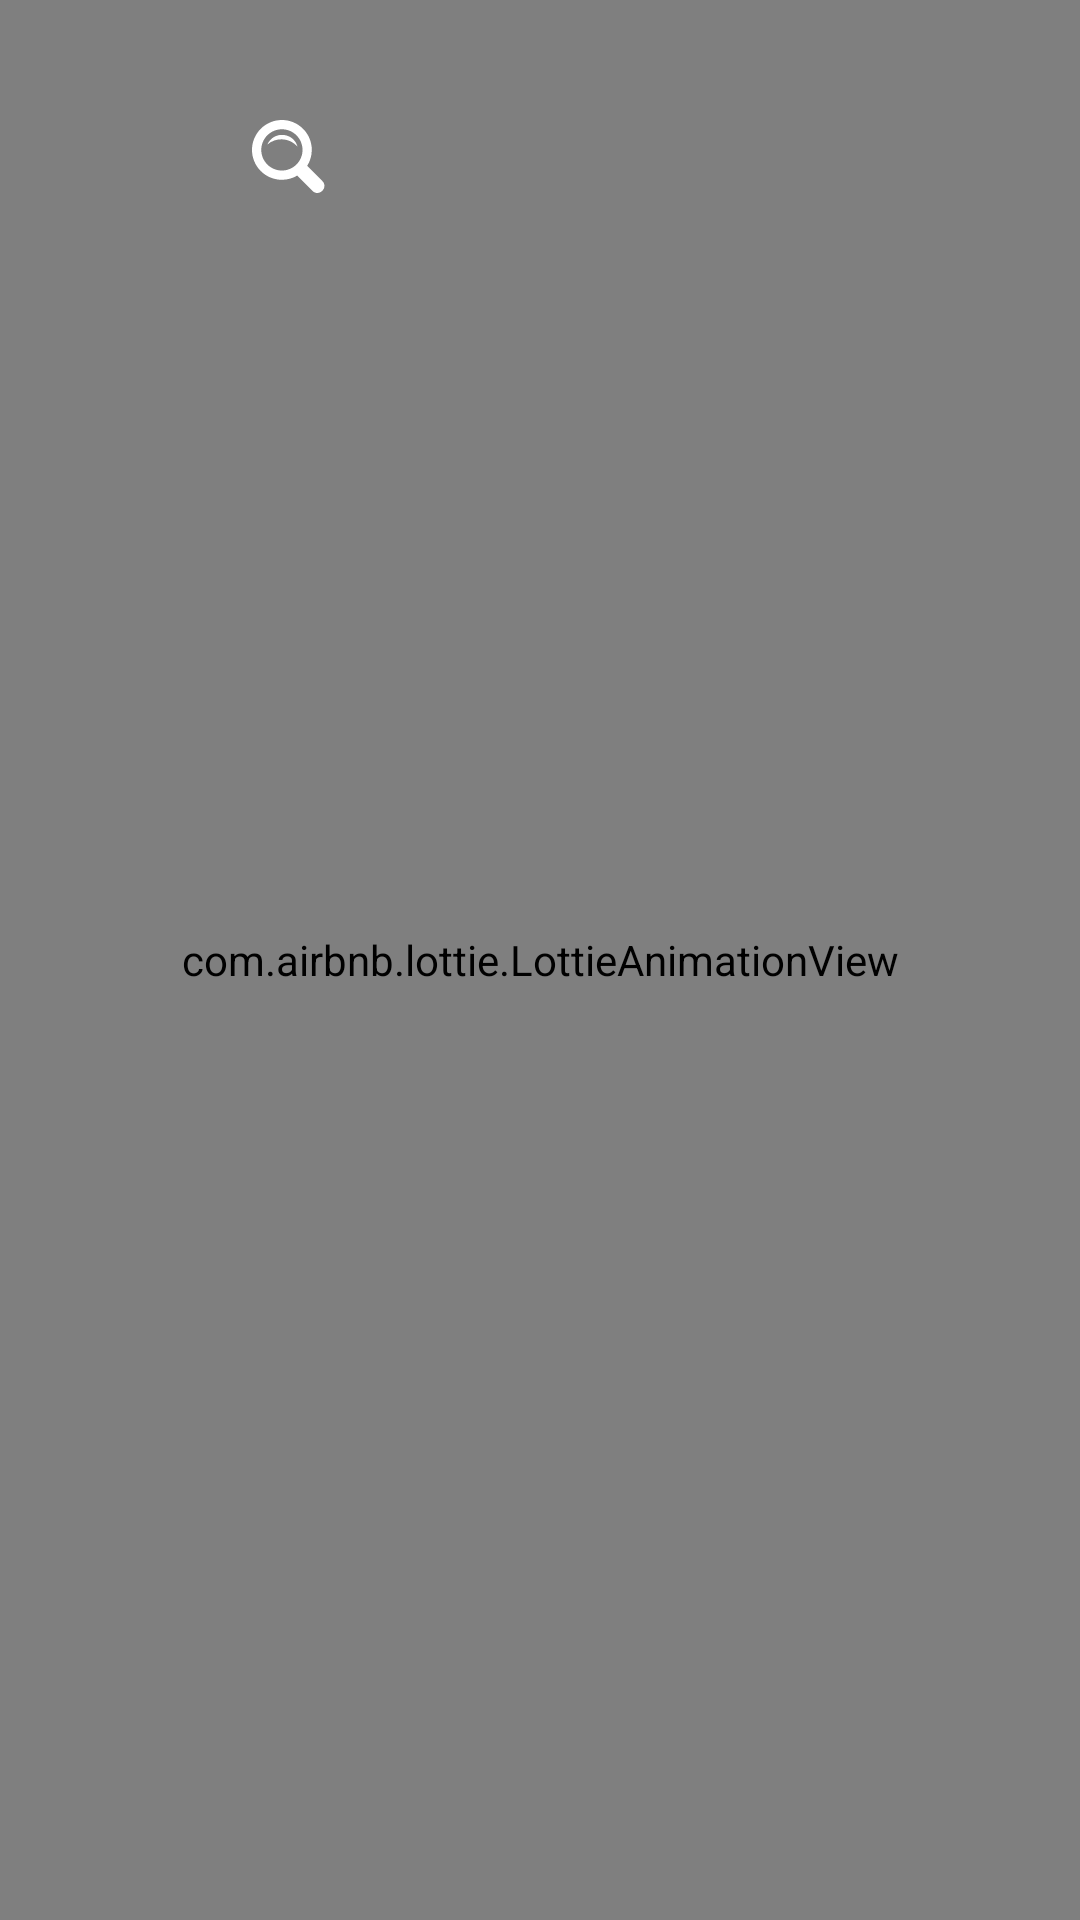

Icons on this 1080px×1920px Android screen, each with the point to tap as point (x, y):
search: point (288, 156)
